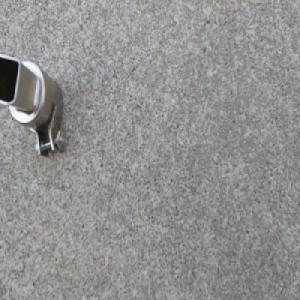MetalPart: (0, 52, 66, 158)
